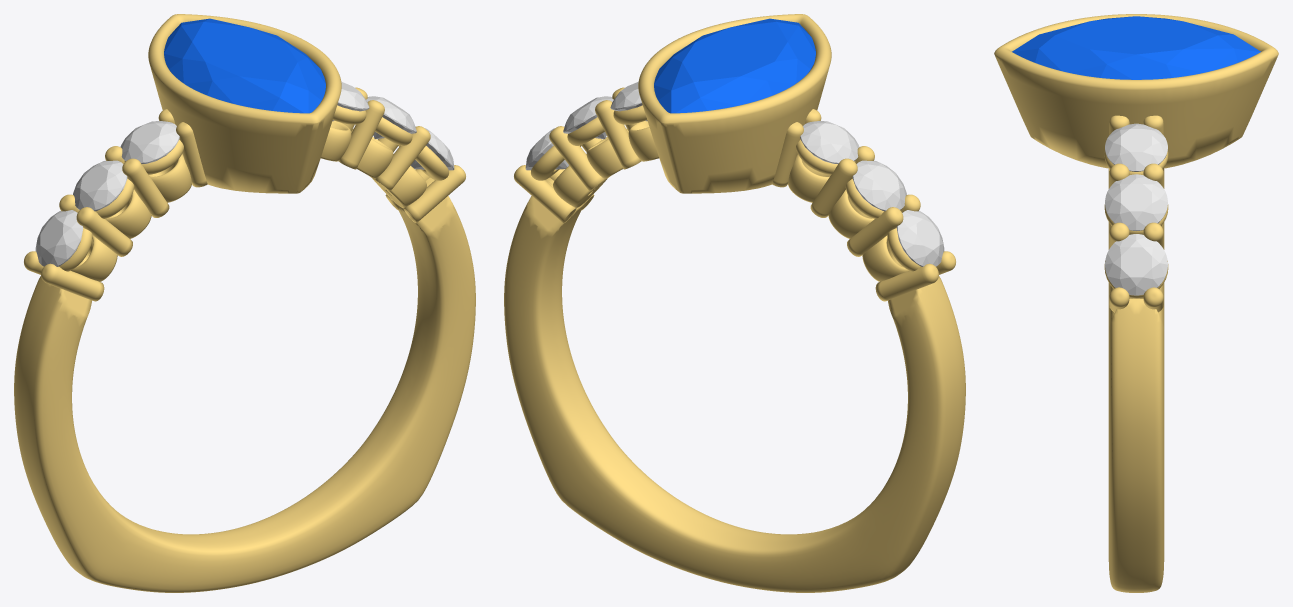
The model's file is bluesapphire-marquise-yellowgold-bezelset-europeanshank-7stone.glb.
The picture shows the model from 3 angles, left to right: view 1: azimuth 30°, elevation 25°; view 2: azimuth 150°, elevation 25°; view 3: azimuth 270°, elevation 25°; orthographic projection.
Visible parts, largest first — view 1: metal.002, stone.001, side.002, side.013, side.014, side.016, side.017; view 2: metal.002, stone.001, side.002, side.013, side.014, side.016, side.017; view 3: metal.002, stone.001, side.015, side.016, side.017.
Boxes of the visible parts, x1,y1,x2,y2 form: metal.002: [14, 14, 475, 592]; stone.001: [164, 18, 325, 113]; side.002: [35, 210, 83, 266]; side.013: [73, 160, 127, 211]; side.014: [120, 121, 179, 164]; side.016: [366, 96, 416, 139]; side.017: [332, 81, 369, 121]; metal.002: [504, 14, 965, 592]; stone.001: [654, 18, 815, 113]; side.002: [896, 210, 944, 266]; side.013: [852, 160, 906, 211]; side.014: [800, 121, 859, 164]; side.016: [563, 96, 613, 139]; side.017: [610, 81, 647, 121]; metal.002: [994, 14, 1278, 592]; stone.001: [1012, 16, 1260, 79]; side.015: [1105, 234, 1167, 295]; side.016: [1105, 174, 1167, 230]; side.017: [1105, 123, 1167, 171].
Bounding box in the file's own units: 20.1 × 22.73 × 11.31.
